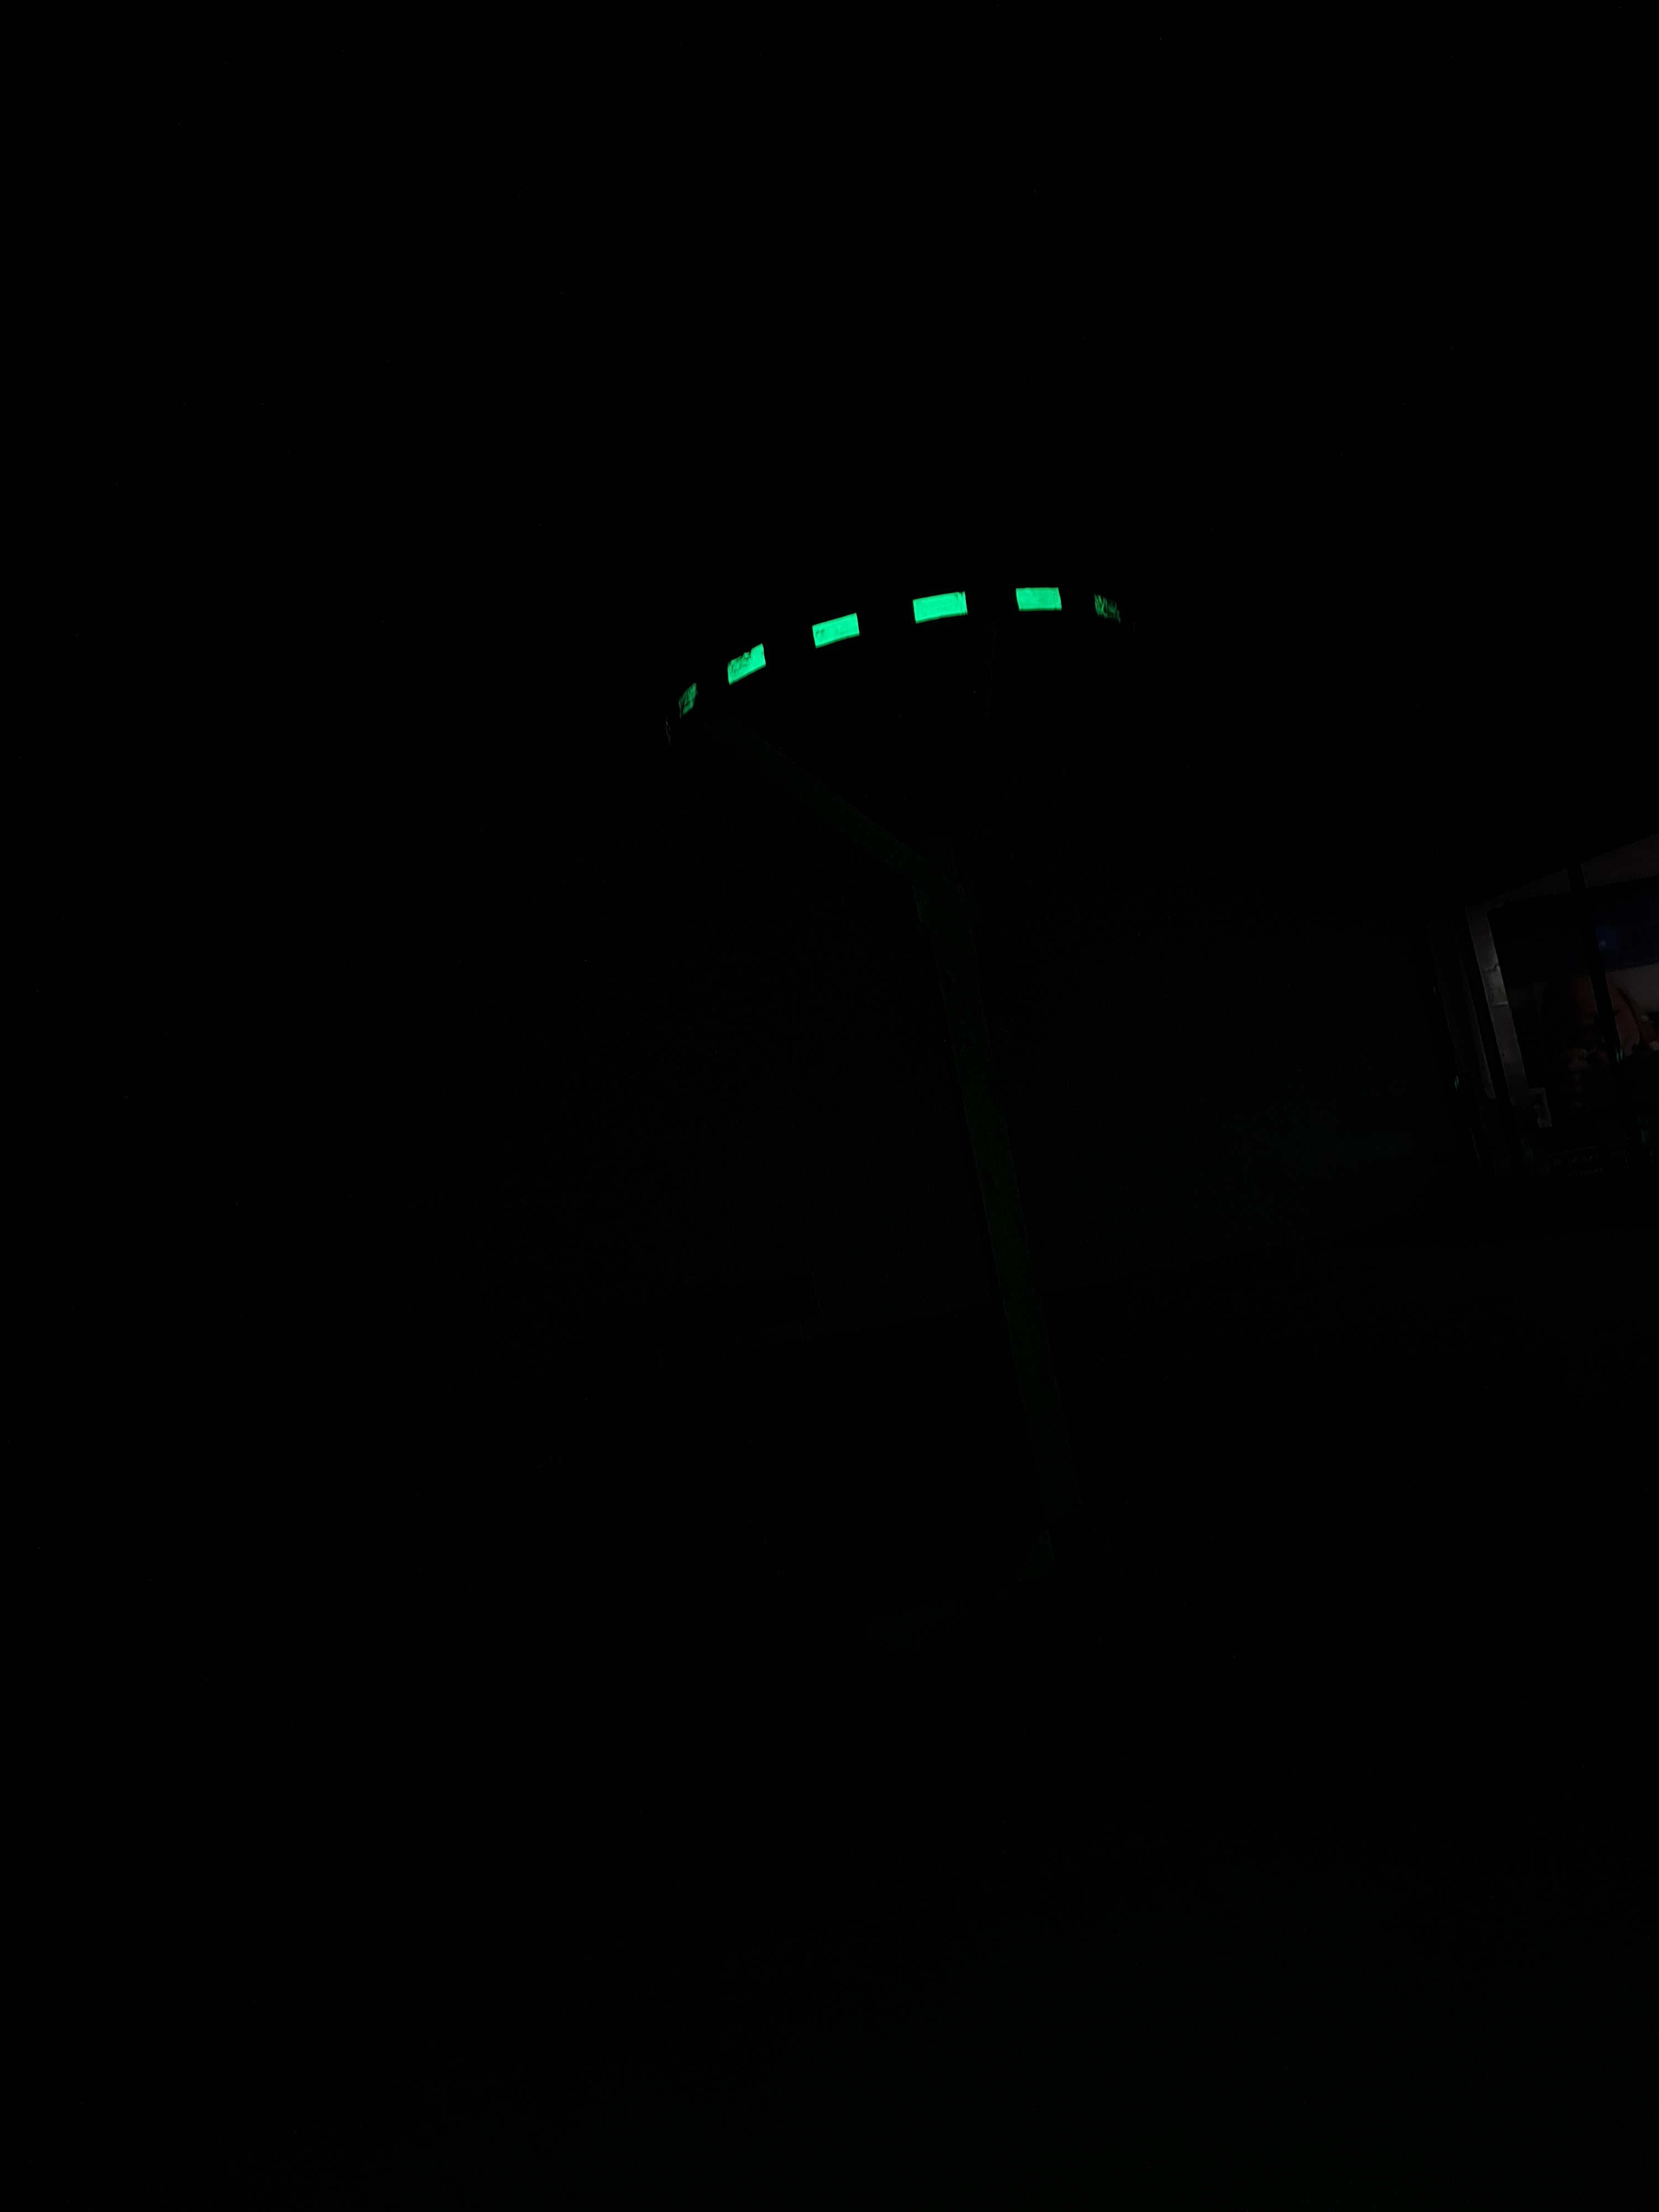hoop: (645, 536, 1157, 749)
